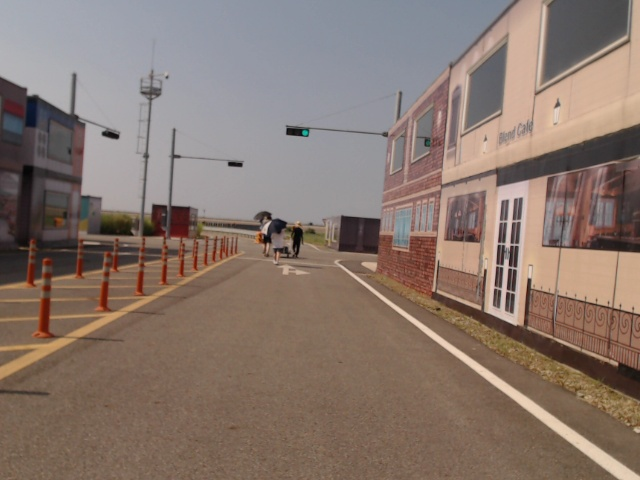green_3: (286, 127, 309, 138)
